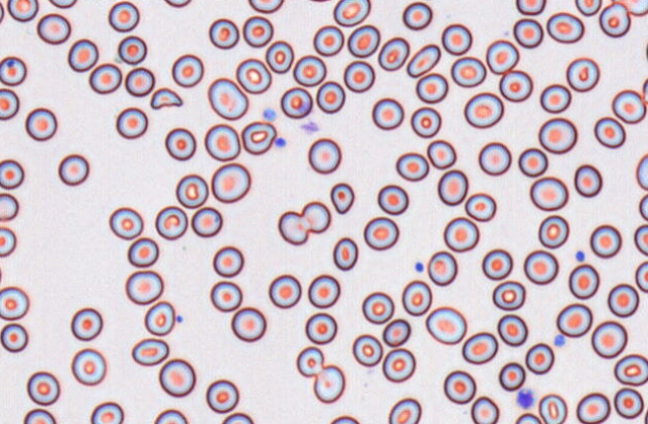PLT: (515, 389, 539, 411), (263, 107, 277, 122), (553, 334, 567, 348), (413, 260, 427, 273), (574, 250, 586, 263), (275, 137, 286, 148)
RBC: (207, 77, 248, 120), (210, 162, 251, 203), (425, 306, 466, 344), (158, 358, 196, 397), (463, 91, 503, 128), (538, 117, 577, 154), (590, 320, 627, 358), (125, 269, 163, 305), (204, 123, 240, 161), (529, 176, 568, 211), (235, 57, 271, 94), (71, 347, 106, 385), (443, 216, 479, 252), (230, 306, 266, 342), (312, 364, 345, 403), (523, 249, 558, 285), (556, 302, 592, 337), (307, 137, 341, 174), (241, 120, 276, 155), (611, 89, 646, 124), (565, 57, 600, 92), (363, 216, 399, 250), (461, 331, 498, 364), (546, 11, 584, 43), (26, 370, 60, 405), (485, 39, 519, 74), (406, 43, 440, 77), (205, 379, 239, 413), (175, 173, 208, 208), (613, 353, 648, 386), (307, 273, 340, 308), (382, 347, 415, 382), (108, 206, 143, 239), (443, 369, 476, 404), (598, 2, 631, 37), (401, 279, 432, 316), (268, 274, 301, 308), (498, 69, 532, 102), (478, 141, 511, 175), (589, 224, 622, 258), (277, 210, 309, 245), (155, 205, 187, 240), (377, 36, 409, 71), (568, 263, 599, 299), (437, 169, 468, 205), (450, 56, 486, 87), (131, 337, 169, 366), (361, 291, 394, 324), (347, 24, 380, 57), (115, 106, 148, 139), (371, 97, 404, 130), (88, 62, 122, 94), (171, 53, 203, 87), (607, 283, 639, 317), (70, 307, 102, 341), (292, 54, 326, 86), (25, 107, 57, 141), (144, 300, 175, 335), (575, 392, 610, 423), (36, 13, 71, 44), (427, 250, 457, 286), (209, 280, 242, 312), (351, 333, 383, 366), (304, 312, 337, 344), (164, 127, 196, 160), (593, 116, 626, 148), (538, 214, 569, 248), (67, 38, 98, 72), (212, 245, 244, 277), (107, 0, 139, 32), (312, 24, 344, 56), (280, 86, 312, 118), (57, 153, 89, 185), (415, 72, 448, 103), (395, 151, 429, 181), (613, 387, 644, 419), (481, 248, 512, 280), (377, 183, 408, 215), (242, 15, 273, 47), (410, 106, 441, 138), (343, 60, 374, 92), (441, 23, 472, 55), (497, 313, 527, 346), (301, 200, 331, 233), (492, 280, 525, 310), (315, 80, 345, 113), (0, 286, 29, 320), (573, 163, 602, 197), (333, 0, 370, 26), (191, 206, 222, 237), (208, 18, 239, 49), (127, 237, 159, 267), (524, 342, 554, 374), (539, 83, 571, 113), (265, 40, 294, 73), (517, 147, 548, 177), (512, 18, 543, 48), (464, 192, 496, 221), (124, 66, 154, 96), (117, 35, 147, 65), (426, 139, 456, 169), (296, 345, 324, 377), (332, 236, 358, 270), (538, 393, 567, 423), (402, 1, 432, 30), (388, 397, 421, 423), (0, 322, 28, 352), (382, 318, 410, 347), (470, 395, 499, 423), (498, 361, 525, 391), (0, 55, 26, 86), (329, 182, 354, 214), (90, 401, 124, 423), (0, 158, 24, 189), (6, 0, 38, 21), (0, 87, 19, 120), (613, 0, 648, 16), (23, 408, 56, 424), (153, 408, 188, 423), (0, 192, 18, 221), (0, 226, 16, 257), (633, 223, 648, 256), (635, 152, 648, 190), (247, 0, 284, 13), (515, 0, 546, 15), (634, 260, 648, 293), (574, 0, 602, 16), (220, 412, 254, 423), (513, 412, 541, 423), (638, 192, 648, 221), (328, 414, 360, 423), (48, 0, 77, 8), (163, 0, 192, 7), (642, 76, 648, 106), (644, 36, 648, 64), (0, 0, 4, 25), (644, 407, 648, 424), (304, 0, 333, 2), (0, 261, 2, 287)
Schistocyte: (150, 87, 183, 111)
